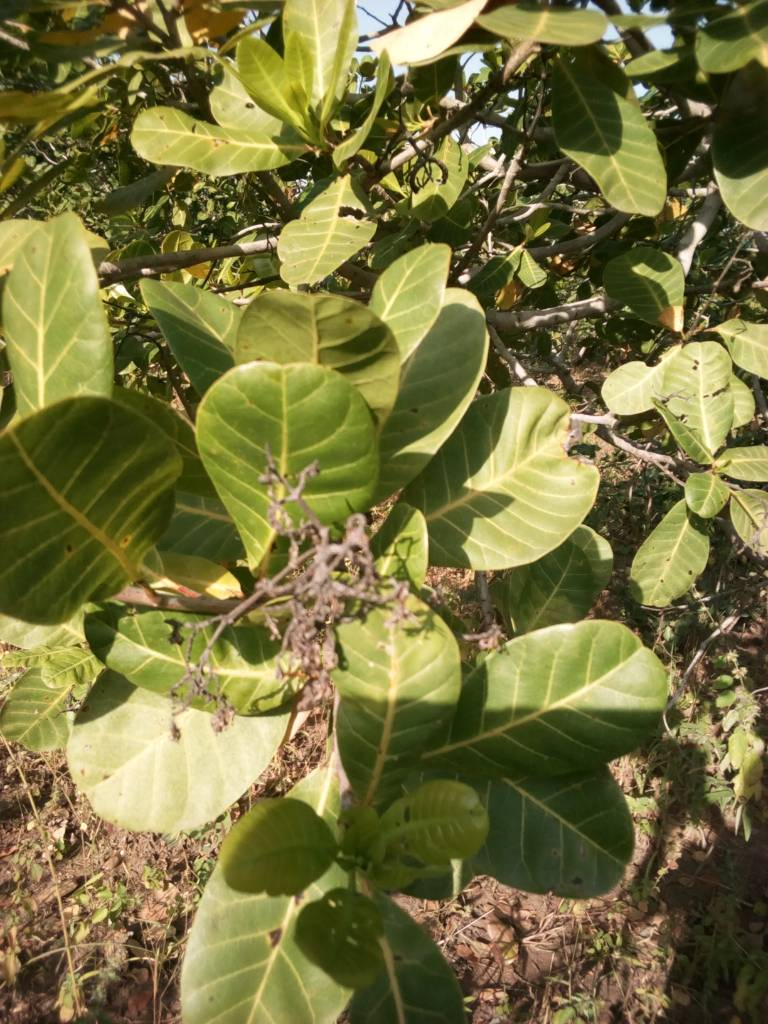Dessèchement des bourgeons: (257, 466, 411, 650), (171, 655, 236, 746), (383, 128, 449, 189)
